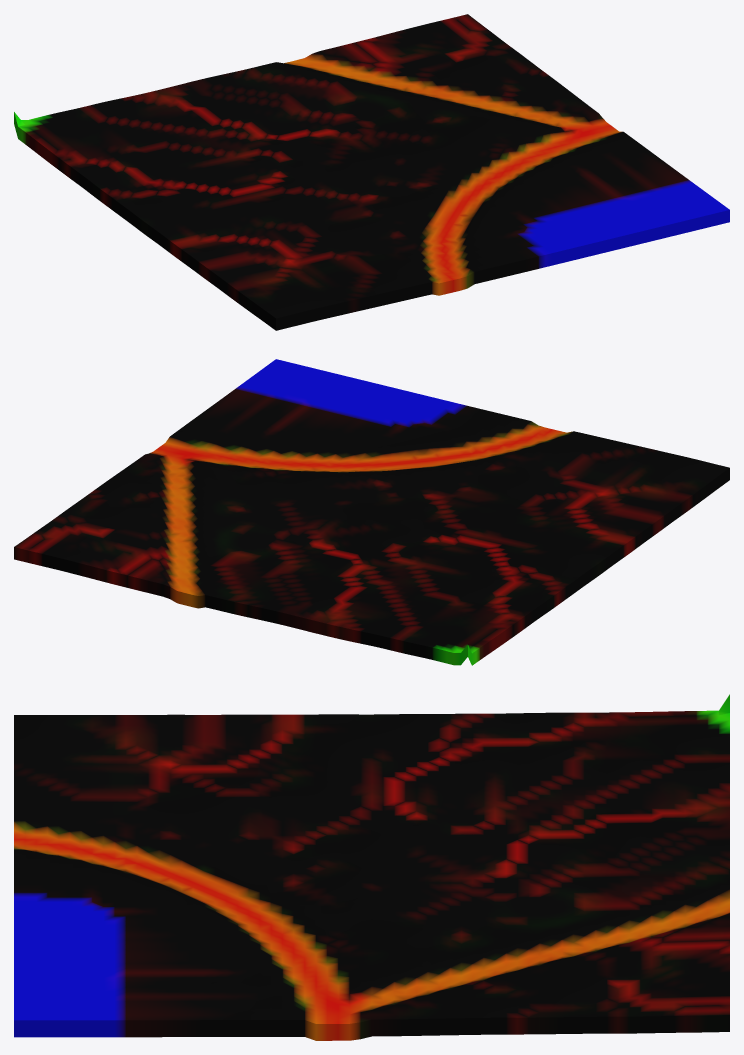
File: Terrain_02_05.fbx
3 renders of one model, top to bottom at view 1: azimuth 30°, elevation 25°; view 2: azimuth 150°, elevation 25°; view 3: azimuth 270°, elevation 25°, orthographic. The views are drawn at different scales.
Visible parts, largest first — view 1: Terrain_02_05_LOD0; view 2: Terrain_02_05_LOD0; view 3: Terrain_02_05_LOD0.
Part boxes in pixels (bbox=[...]): Terrain_02_05_LOD0: bbox=[14, 14, 729, 330]; Terrain_02_05_LOD0: bbox=[14, 359, 729, 665]; Terrain_02_05_LOD0: bbox=[14, 694, 729, 1040].
Size of what is drawn, in the model's own units: 384 by 26.23 by 384.
